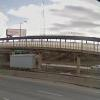Bridge: (3, 28, 96, 65)
